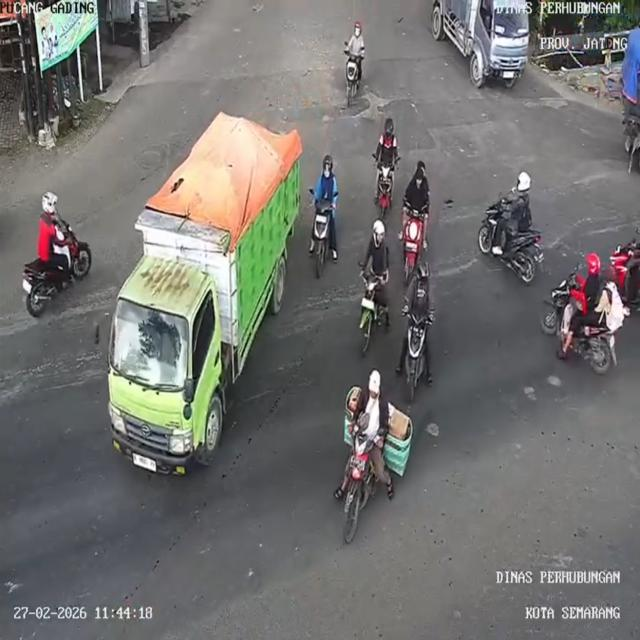motorcycle: (468, 206, 552, 282), (18, 238, 95, 320), (544, 293, 617, 375), (335, 428, 383, 547), (351, 270, 390, 358), (403, 312, 435, 396), (308, 194, 338, 273), (609, 234, 637, 294), (404, 204, 423, 274), (375, 162, 395, 223), (344, 52, 361, 108)
person: (355, 369, 391, 459), (32, 187, 71, 267), (403, 262, 437, 320), (361, 217, 392, 280), (571, 251, 601, 312), (506, 169, 534, 232), (313, 152, 341, 214), (601, 266, 624, 333), (376, 115, 400, 165), (410, 167, 432, 216), (346, 21, 366, 59), (417, 159, 427, 180)
rider_region: (334, 368, 396, 544), (542, 250, 624, 374), (22, 187, 96, 321), (477, 170, 548, 285), (399, 262, 434, 404), (357, 219, 394, 353), (310, 149, 341, 278), (400, 157, 430, 286), (374, 115, 399, 221), (342, 19, 368, 109)
